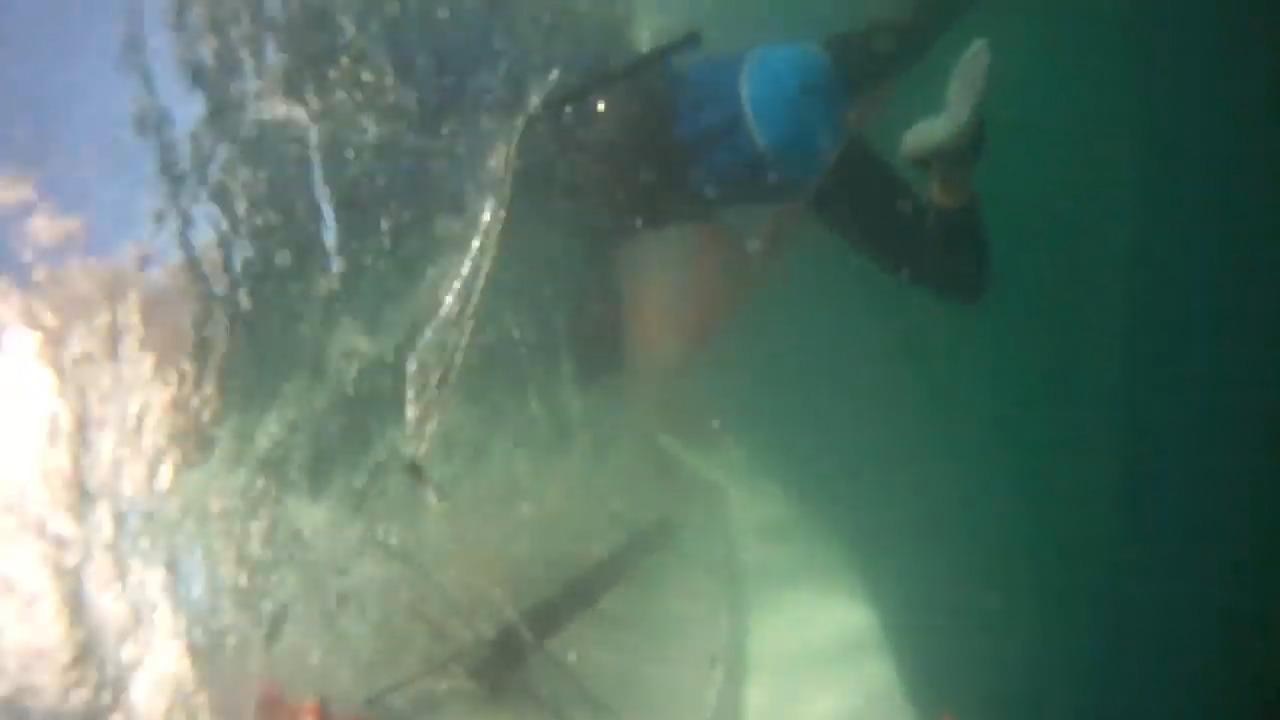boat: (276, 223, 915, 720)
person: (564, 0, 991, 384)
underwater: (0, 0, 1280, 720)
